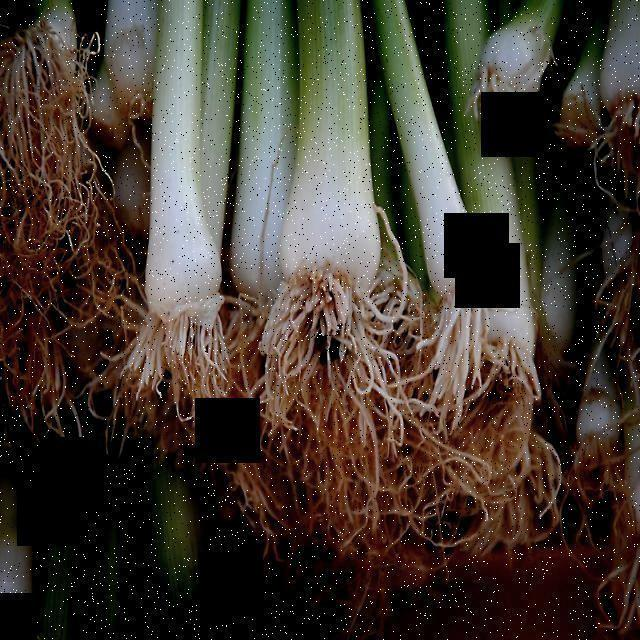green_onion: (466, 5, 638, 636), (265, 0, 471, 443), (125, 0, 276, 447)
